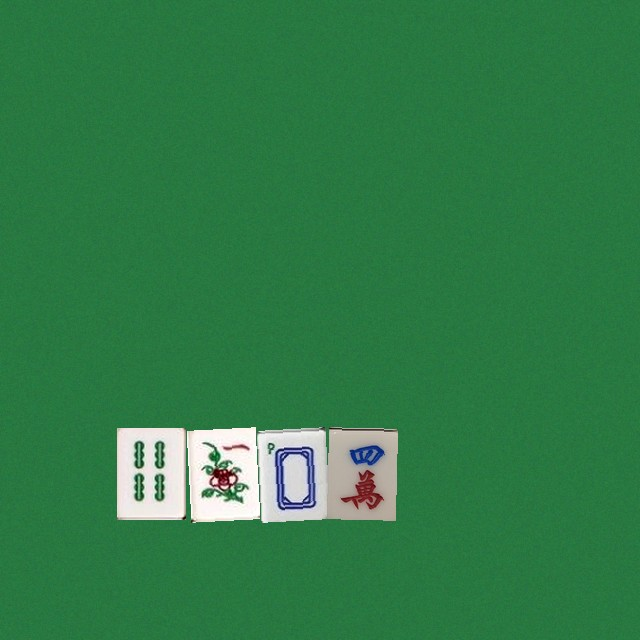tile: (116, 427, 185, 519), (186, 427, 255, 519), (256, 427, 325, 519), (326, 427, 395, 519)
